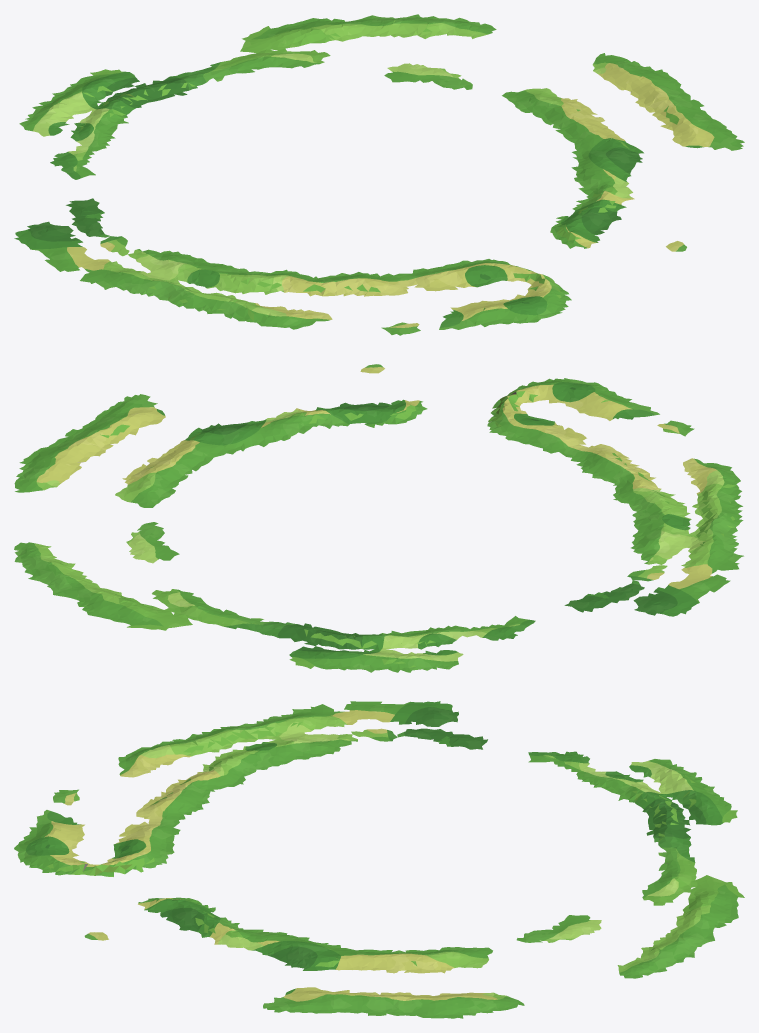
The model's file is Isl-atoll5-Relief.fbx.
The picture shows the model from 3 angles, top to bottom: view 1: azimuth 30°, elevation 25°; view 2: azimuth 150°, elevation 25°; view 3: azimuth 270°, elevation 25°; orthographic projection.
Visible parts, largest first — view 1: Isl-atoll5-Relief-c11, Isl-atoll5-Relief-c22, Isl-atoll5-Relief-c12, Isl-atoll5-Relief-c21, Isl-atoll5-Relief-c31, Isl-atoll5-Relief-c10, Isl-atoll5-Relief-c32, Isl-atoll5-Relief-c01, Isl-atoll5-Relief-c02, Isl-atoll5-Relief-c20, Isl-atoll5-Relief-c23; view 2: Isl-atoll5-Relief-c11, Isl-atoll5-Relief-c22, Isl-atoll5-Relief-c12, Isl-atoll5-Relief-c21, Isl-atoll5-Relief-c31, Isl-atoll5-Relief-c32, Isl-atoll5-Relief-c10, Isl-atoll5-Relief-c01, Isl-atoll5-Relief-c23, Isl-atoll5-Relief-c02, Isl-atoll5-Relief-c20, Isl-atoll5-Relief-c13; view 3: Isl-atoll5-Relief-c11, Isl-atoll5-Relief-c22, Isl-atoll5-Relief-c12, Isl-atoll5-Relief-c21, Isl-atoll5-Relief-c31, Isl-atoll5-Relief-c32, Isl-atoll5-Relief-c10, Isl-atoll5-Relief-c01, Isl-atoll5-Relief-c23, Isl-atoll5-Relief-c20, Isl-atoll5-Relief-c02, Isl-atoll5-Relief-c13.
Part boxes in pixels (<box>): Isl-atoll5-Relief-c11: <box>100,236,498,329</box>; Isl-atoll5-Relief-c22: <box>208,14,597,127</box>; Isl-atoll5-Relief-c12: <box>19,68,221,242</box>; Isl-atoll5-Relief-c21: <box>472,116,686,288</box>; Isl-atoll5-Relief-c31: <box>640,94,744,150</box>; Isl-atoll5-Relief-c10: <box>381,294,546,335</box>; Isl-atoll5-Relief-c32: <box>592,53,689,106</box>; Isl-atoll5-Relief-c01: <box>42,243,152,296</box>; Isl-atoll5-Relief-c02: <box>14,221,82,252</box>; Isl-atoll5-Relief-c20: <box>518,250,684,317</box>; Isl-atoll5-Relief-c23: <box>242,15,378,48</box>; Isl-atoll5-Relief-c11: <box>505,416,743,581</box>; Isl-atoll5-Relief-c22: <box>14,461,258,629</box>; Isl-atoll5-Relief-c12: <box>242,580,662,672</box>; Isl-atoll5-Relief-c21: <box>147,364,532,473</box>; Isl-atoll5-Relief-c31: <box>58,394,165,451</box>; Isl-atoll5-Relief-c32: <box>14,440,105,492</box>; Isl-atoll5-Relief-c10: <box>550,381,694,436</box>; Isl-atoll5-Relief-c01: <box>665,535,743,596</box>; Isl-atoll5-Relief-c23: <box>53,591,185,630</box>; Isl-atoll5-Relief-c02: <box>634,587,700,616</box>; Isl-atoll5-Relief-c20: <box>377,364,581,403</box>; Isl-atoll5-Relief-c13: <box>289,651,373,672</box>; Isl-atoll5-Relief-c11: <box>113,717,397,854</box>; Isl-atoll5-Relief-c22: <box>397,853,714,978</box>; Isl-atoll5-Relief-c12: <box>397,720,713,855</box>; Isl-atoll5-Relief-c21: <box>84,849,399,973</box>; Isl-atoll5-Relief-c31: <box>263,987,399,1015</box>; Isl-atoll5-Relief-c32: <box>397,992,524,1018</box>; Isl-atoll5-Relief-c10: <box>14,789,84,855</box>; Isl-atoll5-Relief-c01: <box>257,701,399,724</box>; Isl-atoll5-Relief-c23: <box>706,877,744,942</box>; Isl-atoll5-Relief-c20: <box>18,850,87,937</box>; Isl-atoll5-Relief-c02: <box>397,701,458,724</box>; Isl-atoll5-Relief-c13: <box>707,786,737,825</box>.
Bounding box in the file's own units: 127 × 1.66 × 123.
